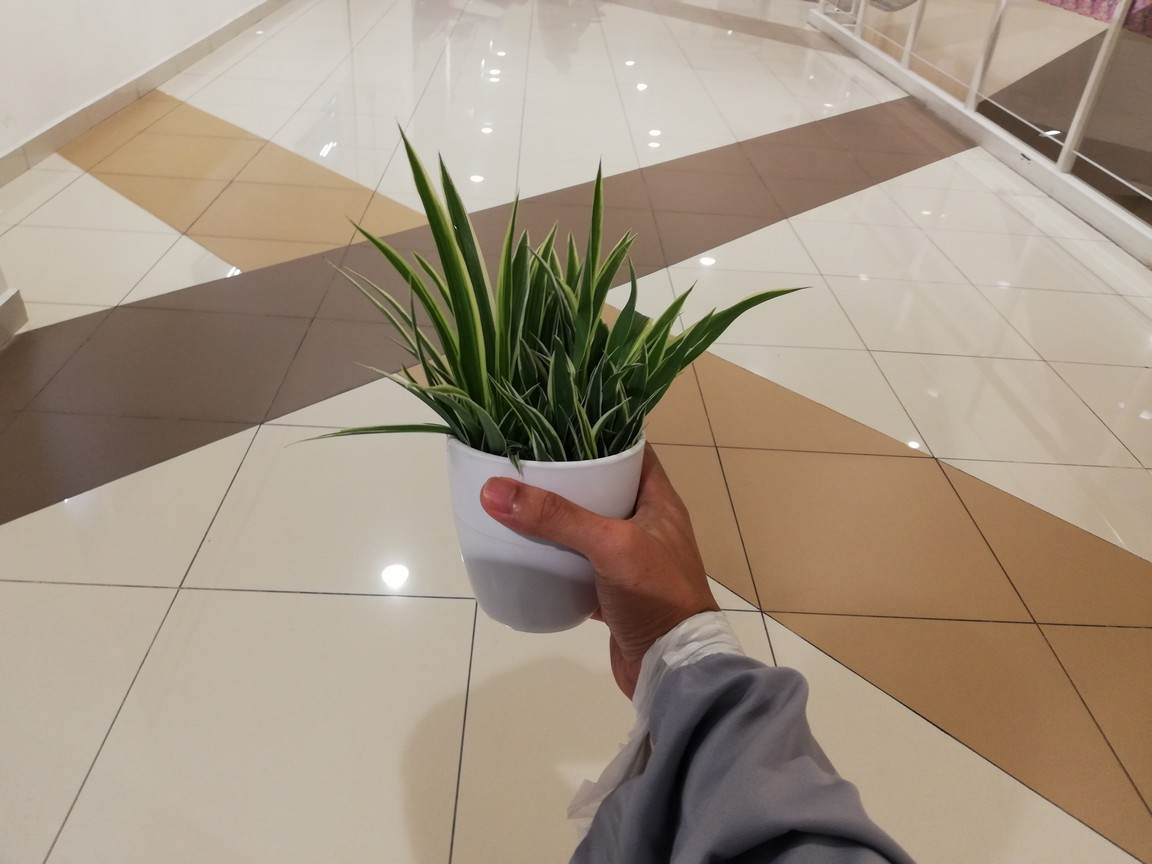daun: (716, 283, 818, 337), (395, 119, 438, 242), (320, 256, 390, 326), (437, 145, 476, 253), (285, 422, 444, 445), (346, 212, 409, 268), (345, 267, 405, 324), (633, 370, 687, 428), (406, 382, 485, 420), (548, 335, 579, 402), (587, 153, 605, 260), (682, 306, 716, 361), (353, 360, 402, 397), (410, 248, 447, 295), (661, 277, 701, 320), (591, 396, 632, 434), (584, 348, 607, 413), (511, 227, 532, 290), (499, 184, 522, 236), (624, 246, 640, 313), (538, 217, 559, 268), (528, 426, 551, 470), (614, 361, 643, 385), (565, 229, 580, 274), (385, 335, 413, 359), (486, 372, 508, 400), (504, 448, 523, 477), (502, 375, 522, 400), (622, 231, 639, 255), (399, 358, 416, 382), (518, 383, 539, 402), (615, 227, 632, 249)
